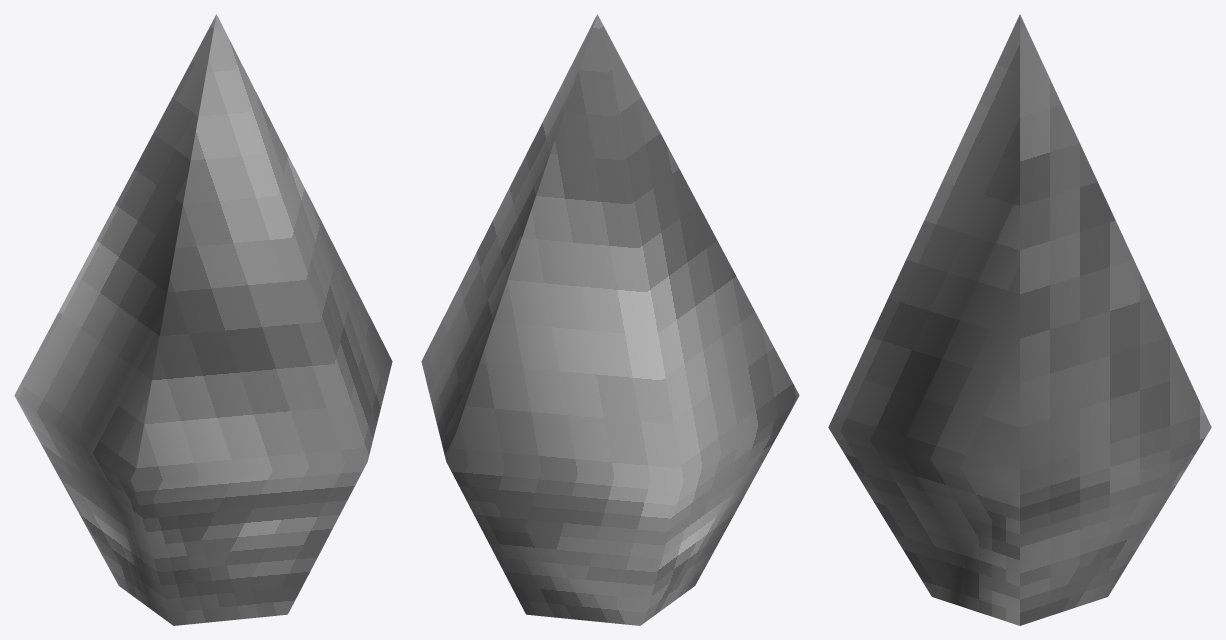
Rendered from crystal01.obj.
3 views of the same model, side by side, from view 1: azimuth 30°, elevation 25°; view 2: azimuth 150°, elevation 25°; view 3: azimuth 270°, elevation 25° (orthographic).
Parts seen in each view (by area): view 1: Cylinder02; view 2: Cylinder02; view 3: Cylinder02.
Boxes of the visible parts, left/top/right/bottom form: Cylinder02: left=14, top=14, right=392, bottom=625; Cylinder02: left=421, top=14, right=799, bottom=625; Cylinder02: left=828, top=14, right=1211, bottom=625.
Size of the model in its own units: 1.73 by 2.98 by 1.82.
